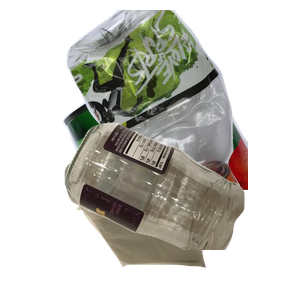glass: (62, 120, 300, 300)
metal: (60, 48, 300, 228)
plastic: (64, 10, 300, 190)
trash: (74, 148, 273, 300)
